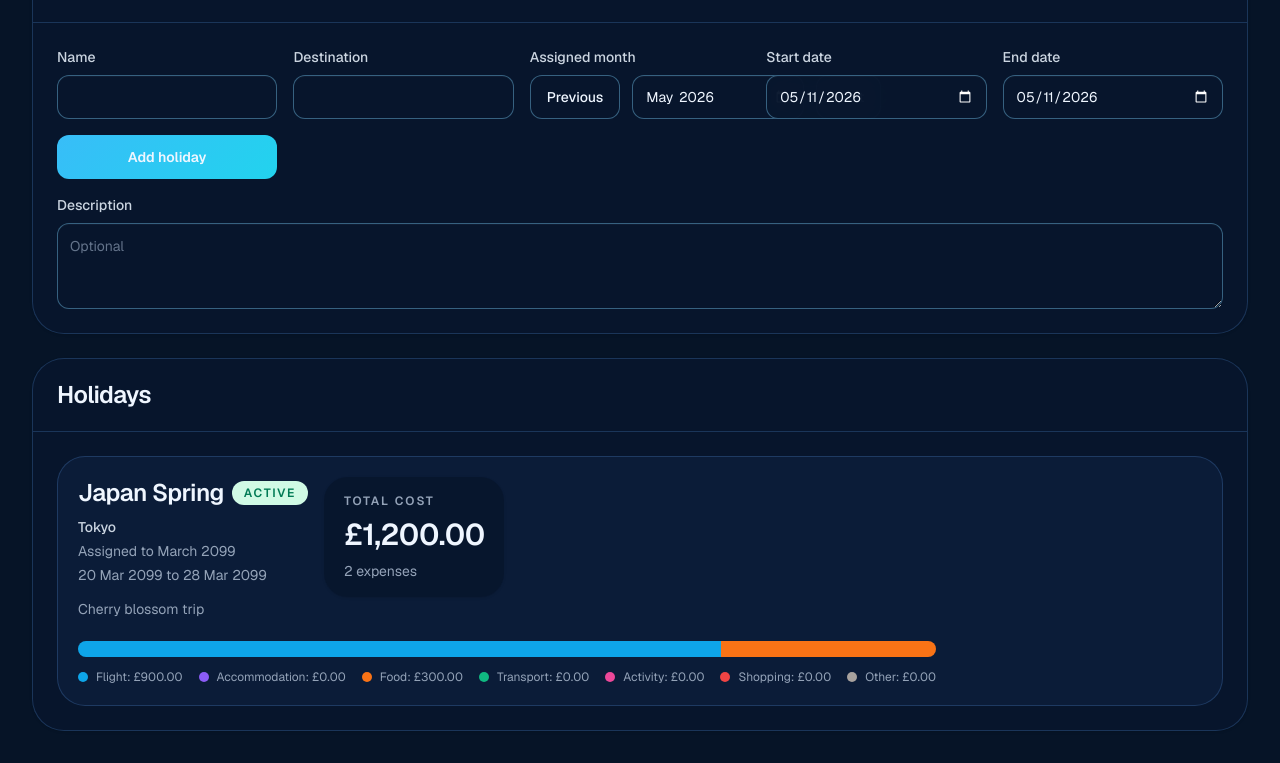
it: [Component] holidays page › should move an expanded holiday assignment draft to the previous month when Previous is clicked
(page scrolled)
Click the button "Japan Spring": (640, 581) [58, 457, 1222, 705]
(page scrolled)
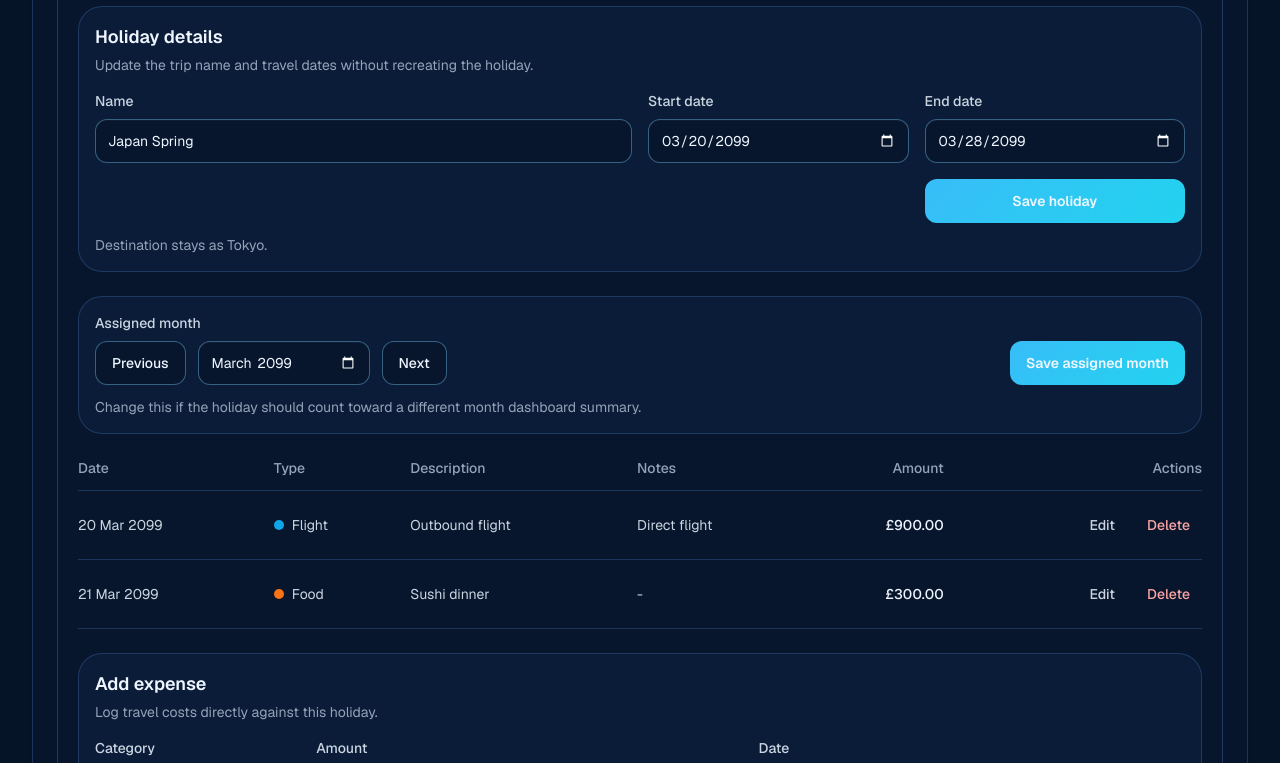
Expected: the field showing "2099-03" is shown, [198, 341, 370, 385]
Click the button "Previous": (140, 363) [95, 341, 186, 385]
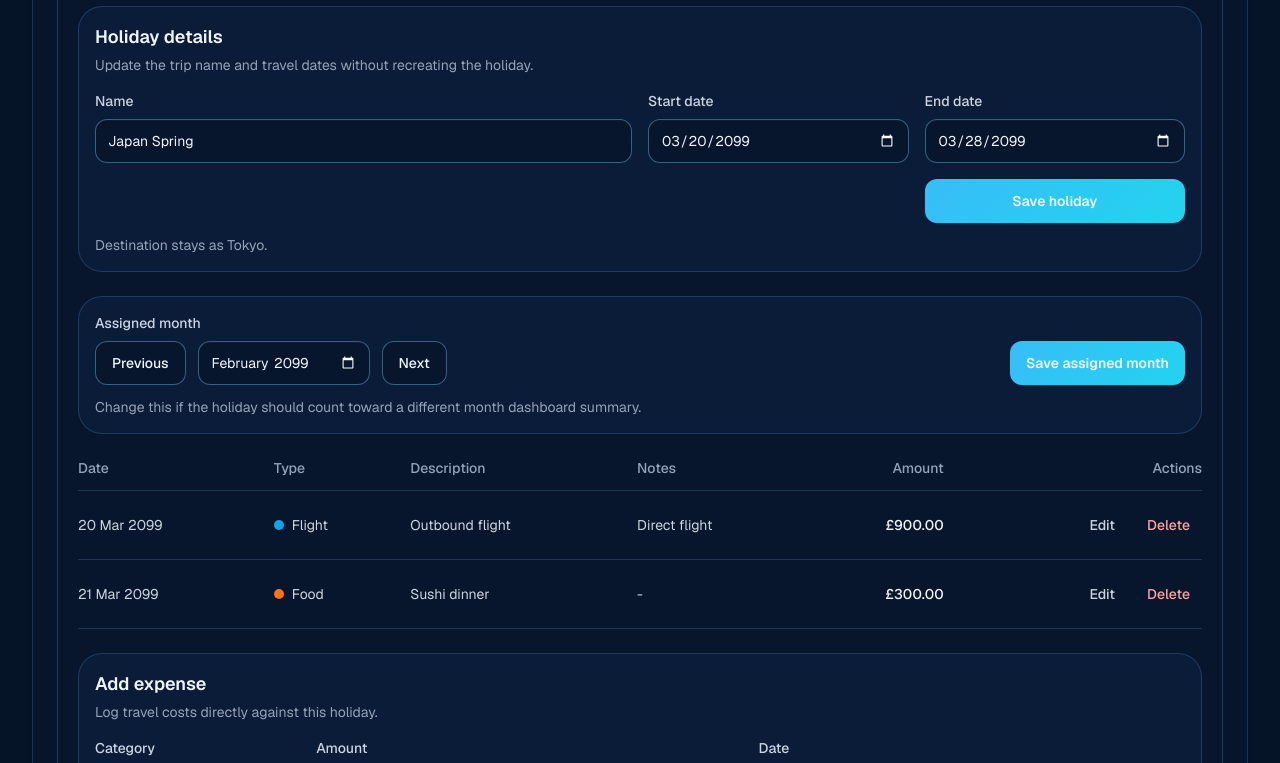
Expected: the field labelled "Assigned month" holds "2099-02", [198, 341, 370, 385]
